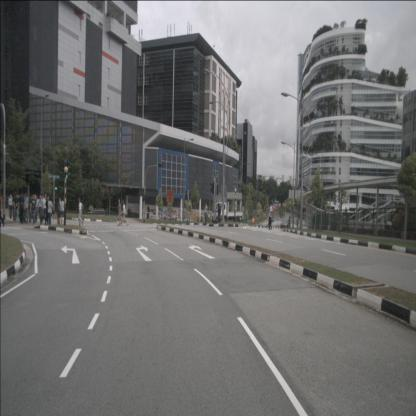human-pedestrian-adult: (120, 200, 130, 227), (18, 193, 25, 224), (12, 193, 19, 223), (77, 197, 84, 226), (36, 195, 43, 224), (0, 190, 5, 227), (30, 194, 36, 224), (268, 205, 275, 230), (42, 194, 48, 223), (24, 192, 29, 225), (48, 196, 53, 226), (57, 197, 62, 225), (117, 198, 122, 226), (8, 194, 13, 219), (45, 196, 49, 225), (60, 198, 64, 224), (204, 202, 208, 226), (216, 203, 220, 225)
vehicle-car: (280, 218, 290, 229), (269, 216, 274, 223)
vehicle-truck: (211, 202, 243, 224)
